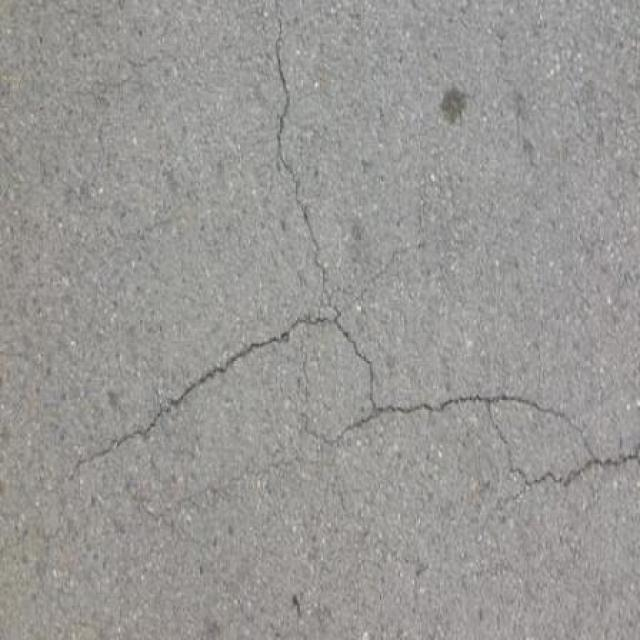Crack: (61, 0, 640, 488)
